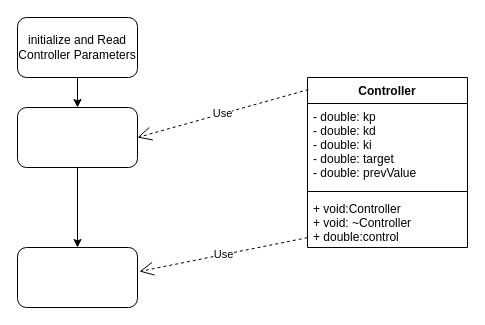
The diagram is 485 pixels wide and 325 high, and some of its shapes have lost their labels. Each missing label, with the centre of its shape:
Call the control law function: the point at 77,277
Instantiate the velocity Controller object: the point at 77,137
